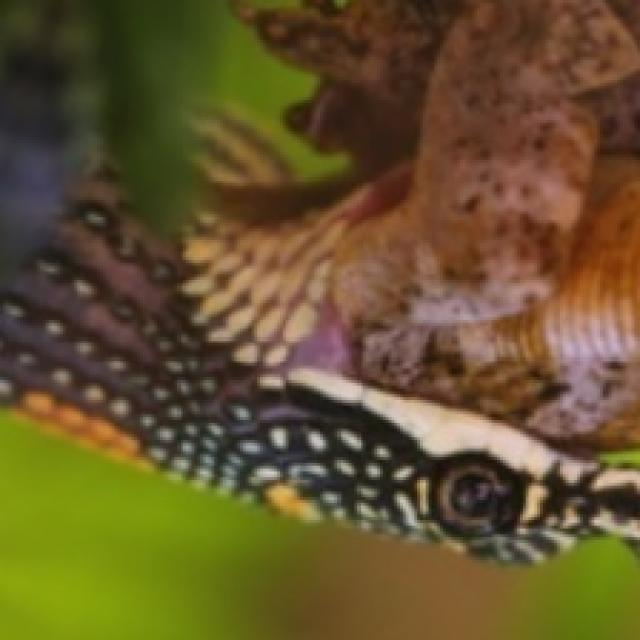paradise tree snake: (0, 0, 637, 637), (0, 0, 637, 560)
